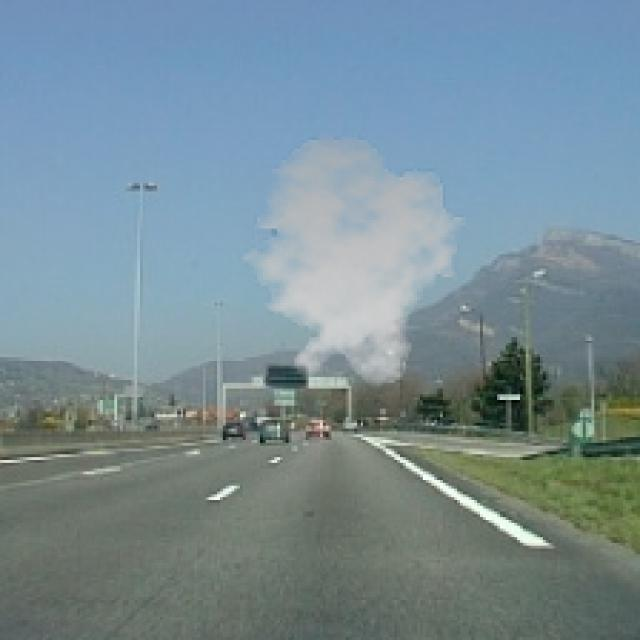smoke: (228, 134, 472, 389)
